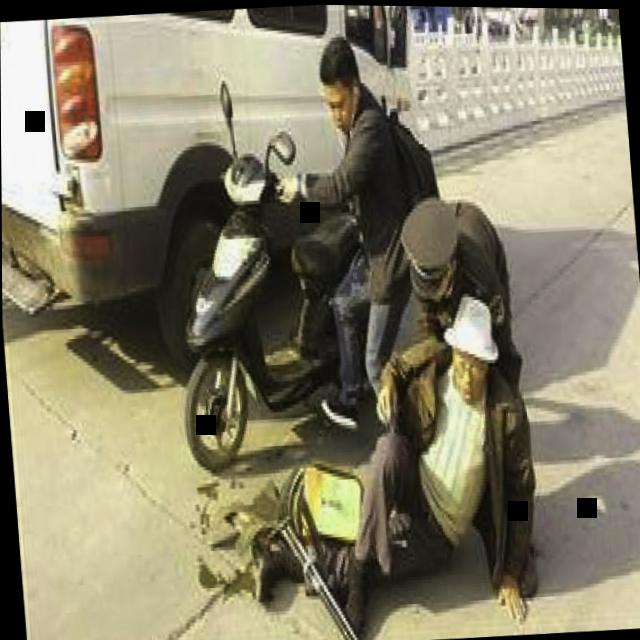Fall-Detected: (164, 263, 557, 640)
